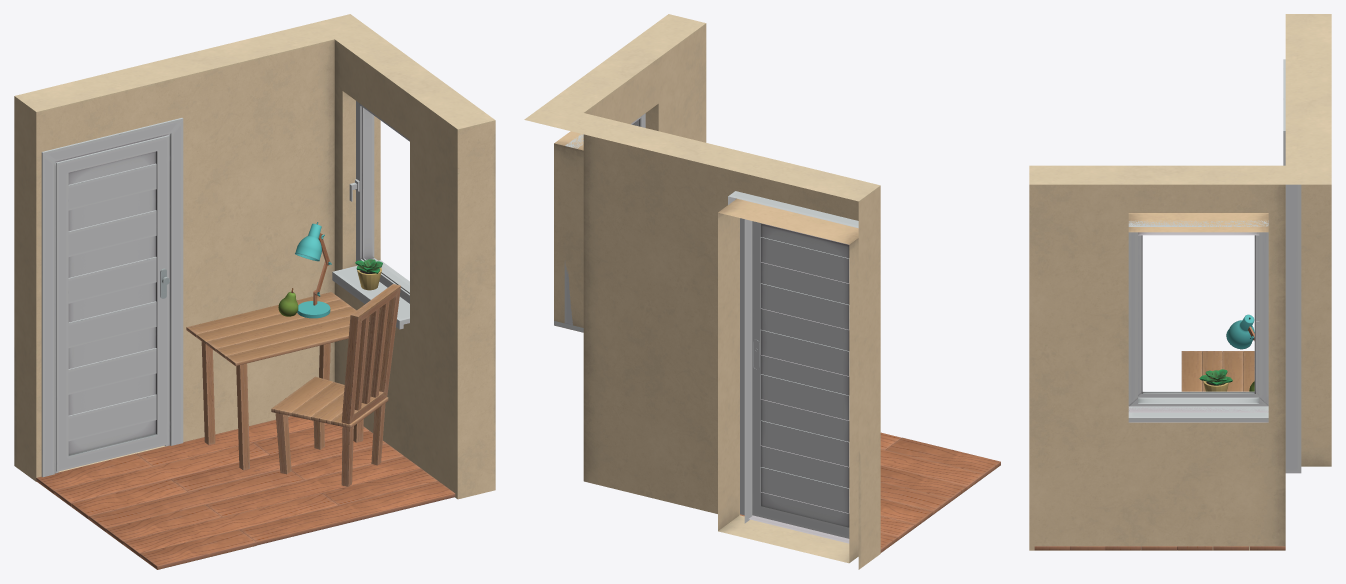
File: Sketchfab.fbx
The picture shows the model from 3 angles, left to right: view 1: azimuth 30°, elevation 25°; view 2: azimuth 150°, elevation 25°; view 3: azimuth 270°, elevation 25°; orthographic projection. The views are drawn at different scales.
Parts seen in each view (by area): view 1: Wall, Door, Floor, Chair, Table, Window, Lamp, Flower_Pot; view 2: Wall, Door, Floor, Window; view 3: Wall, Window, Door, Table, Floor, Lamp, Flower_Pot.
Part boxes in pixels (x1,y1,x2,y2): Wall: [14, 14, 495, 499]; Door: [41, 118, 183, 477]; Floor: [36, 416, 455, 569]; Chair: [271, 284, 400, 486]; Table: [186, 292, 369, 470]; Window: [332, 101, 409, 329]; Lamp: [295, 222, 331, 318]; Flower_Pot: [355, 259, 382, 290]; Wall: [524, 14, 880, 569]; Door: [728, 191, 858, 543]; Floor: [740, 432, 1000, 552]; Window: [554, 113, 645, 332]; Wall: [1029, 14, 1331, 550]; Window: [1128, 220, 1268, 422]; Door: [1283, 59, 1301, 473]; Table: [1181, 351, 1254, 391]; Floor: [1034, 546, 1285, 550]; Lamp: [1226, 314, 1254, 349]; Flower_Pot: [1199, 369, 1232, 391].
Size of the model in its own units: 90.85 by 95.6 by 67.98.
